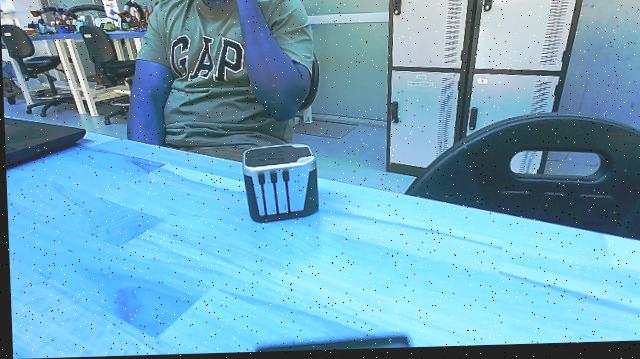adapter: (238, 141, 321, 231)
